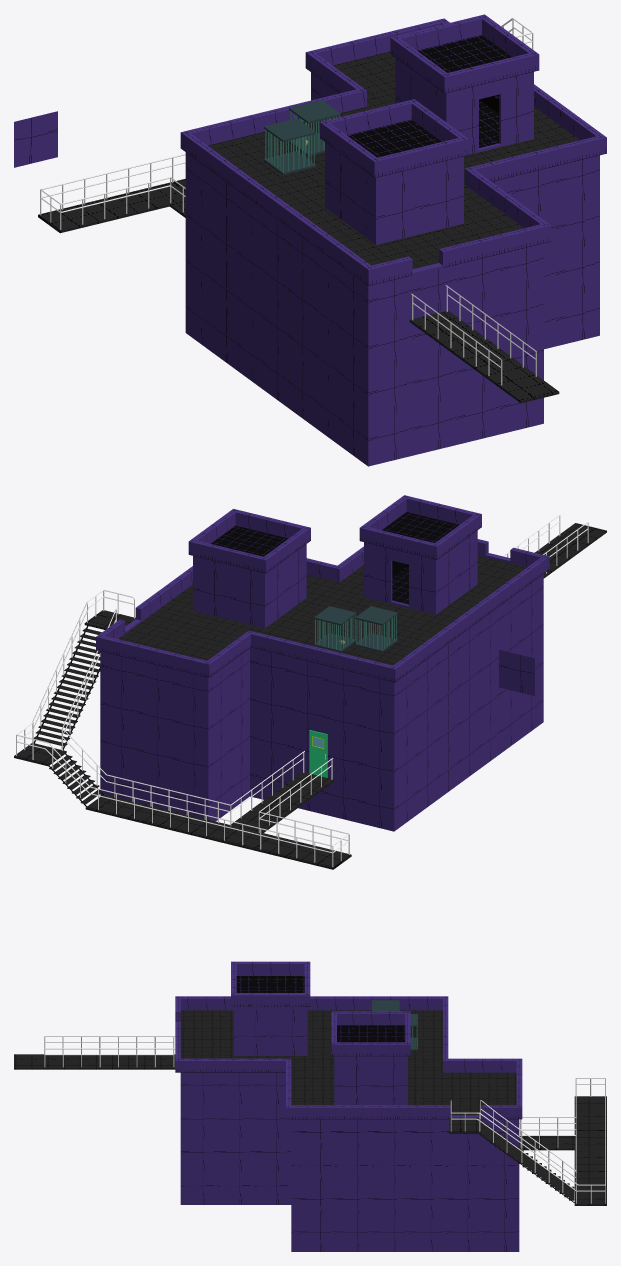
Rendered from house_outside.glb.
The picture shows the model from 3 angles, top to bottom: view 1: azimuth 30°, elevation 25°; view 2: azimuth 150°, elevation 25°; view 3: azimuth 270°, elevation 25°; orthographic projection. The views are drawn at different scales.
Visible parts, largest first — view 1: Plane.012, roof_rail, roof_floor, house_outside_plane0.001, house_outside_plane0.009, houserail2, house_rail, Plane.001, Plane.027, medium_cage, rail_end, house_outside_plane0 (+5 smaller); view 2: Plane.012, roof_floor, roof_rail, Plane.027, house_outside_plane0.009, rail_end, house_outside_plane0.001, houserail2, house_rail, stairs, Plane.001, medium_cage.001 (+7 smaller); view 3: Plane.012, roof_floor, roof_rail, Plane.027, house_outside_plane0.009, house_outside_plane0.001, houserail2, house_rail, Plane.001, rail_end, stairs, house_roof2 (+2 smaller).
Part boxes in pixels (x1,y1,x2,y2): Plane.012: (185, 72, 599, 466); roof_rail: (180, 18, 606, 285); roof_floor: (208, 51, 579, 268); house_outside_plane0.001: (325, 142, 463, 244); house_outside_plane0.009: (395, 57, 533, 154); houserail2: (390, 14, 539, 93); house_rail: (320, 99, 468, 177); Plane.001: (409, 310, 559, 403); Plane.027: (38, 178, 185, 233); medium_cage: (264, 118, 315, 174); rail_end: (40, 18, 533, 229); house_outside_plane0: (14, 111, 57, 167); Plane.012: (100, 574, 543, 831); roof_floor: (118, 555, 526, 665); roof_rail: (96, 539, 549, 682); Plane.027: (14, 610, 351, 869); house_outside_plane0.009: (193, 544, 306, 628); rail_end: (16, 589, 349, 867); house_outside_plane0.001: (364, 530, 477, 614); houserail2: (188, 509, 310, 573); house_rail: (359, 495, 481, 559); stairs: (33, 625, 103, 807); Plane.001: (535, 523, 606, 578); medium_cage.001: (314, 606, 356, 652); Plane.012: (180, 1072, 519, 1251); roof_floor: (180, 1010, 516, 1115); roof_rail: (175, 996, 522, 1119); Plane.027: (449, 1096, 606, 1205); house_outside_plane0.009: (334, 1056, 407, 1105); house_outside_plane0.001: (233, 1007, 307, 1055); houserail2: (331, 1011, 410, 1056); house_rail: (231, 961, 310, 1006); Plane.001: (14, 1054, 175, 1069); rail_end: (450, 1078, 605, 1203); stairs: (479, 1123, 574, 1202); house_roof2: (337, 1025, 405, 1042).
Size of what is drawn, in the model's own units: 23.85 by 11.7 by 32.17.
Materials: 9 (9 with a texture image).
